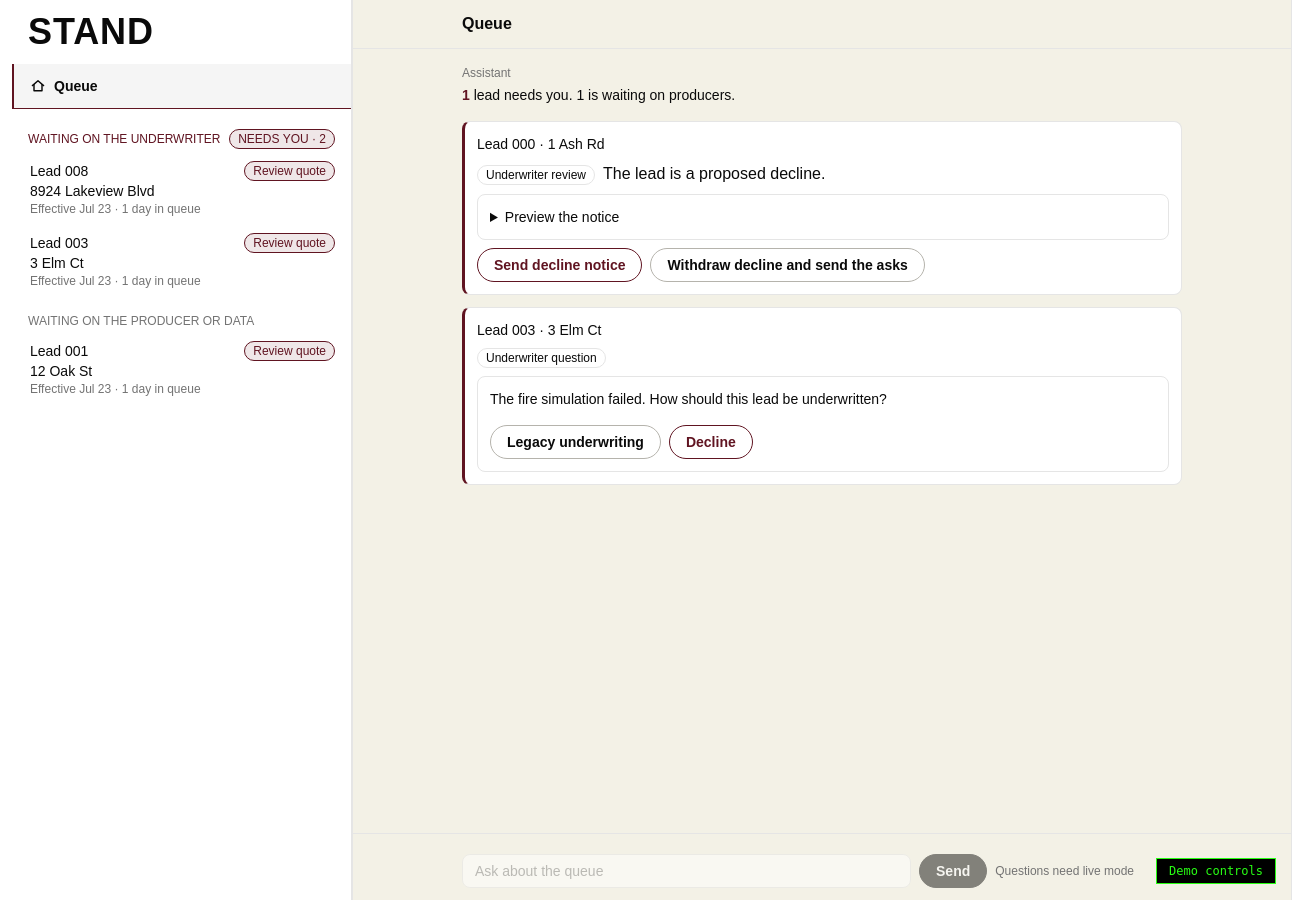
Test: App › holds the cards of leads 000 and 003 in the queue conversation, and a card opens its lead
Expected: the button "Withdraw decline and send the asks" is shown, [650, 248, 925, 282]
Expected: the button "Legacy underwriting" is shown, [490, 425, 661, 459]
Step 1. Click the button "Lead 003 · 3 Elm Ct" → (539, 330), box [477, 320, 602, 340]
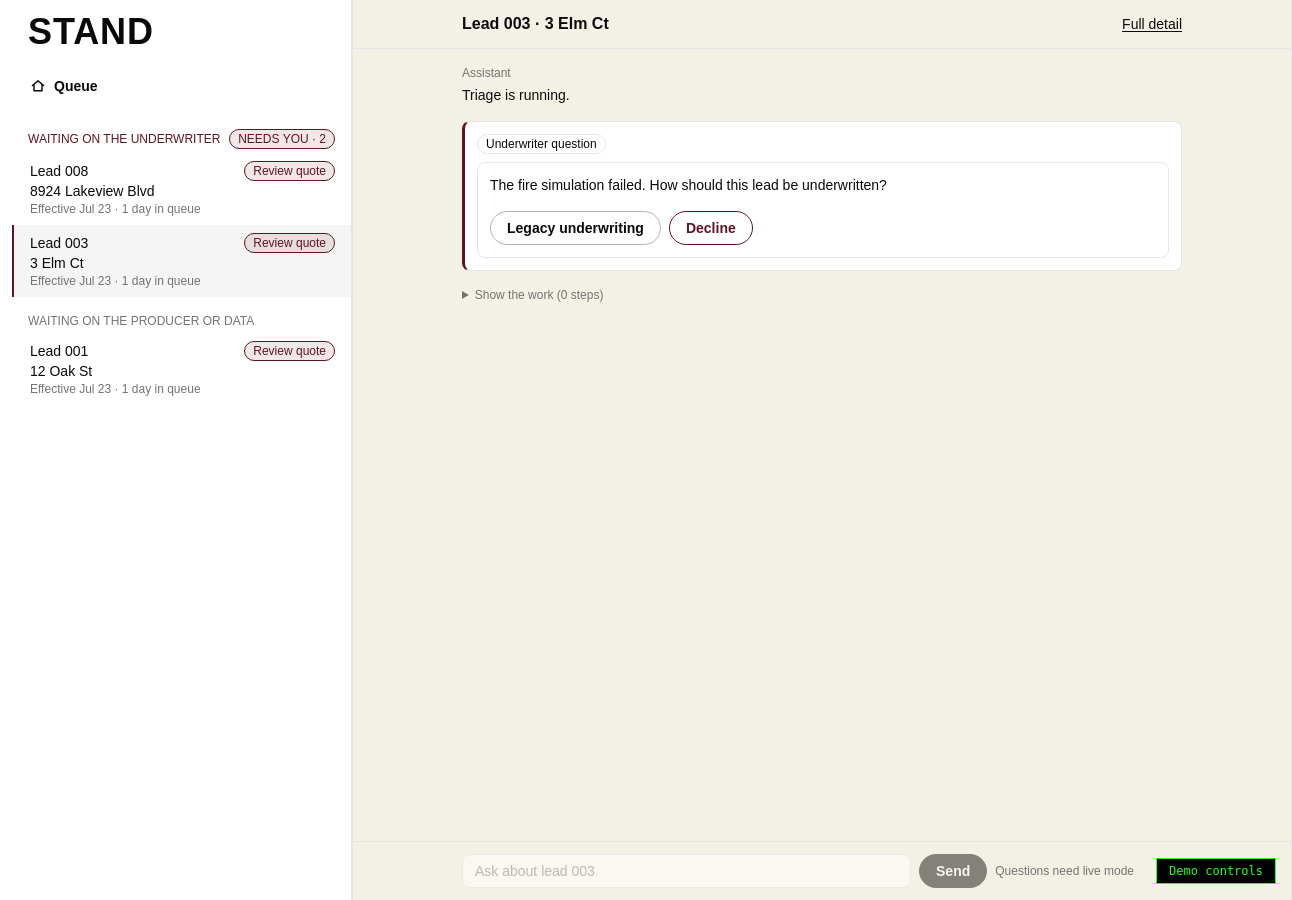
Result: the heading "Lead 003 · 3 Elm Ct" is shown at [462, 12, 609, 36]
